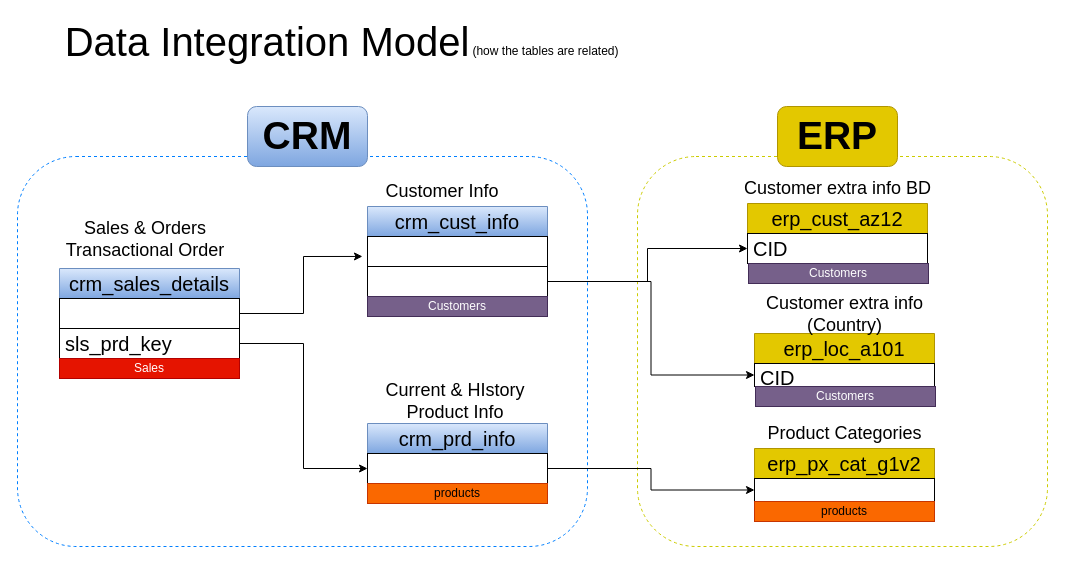
Some shapes in this 1065 by 564 pixel diagram are drawn without their labels. The shapes that lost their labels are listed below. From the top down, each one's centre as x and y in pixels, then its label:
the point at 457,251: cst_id
the point at 457,281: cst_key
the point at 149,313: sls_cust_id
the point at 457,468: cat_id
the point at 844,490: ID
